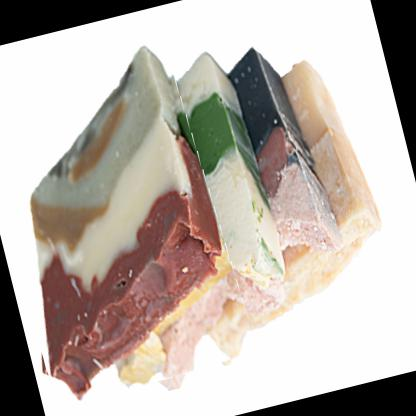soap: (0, 38, 255, 412)
